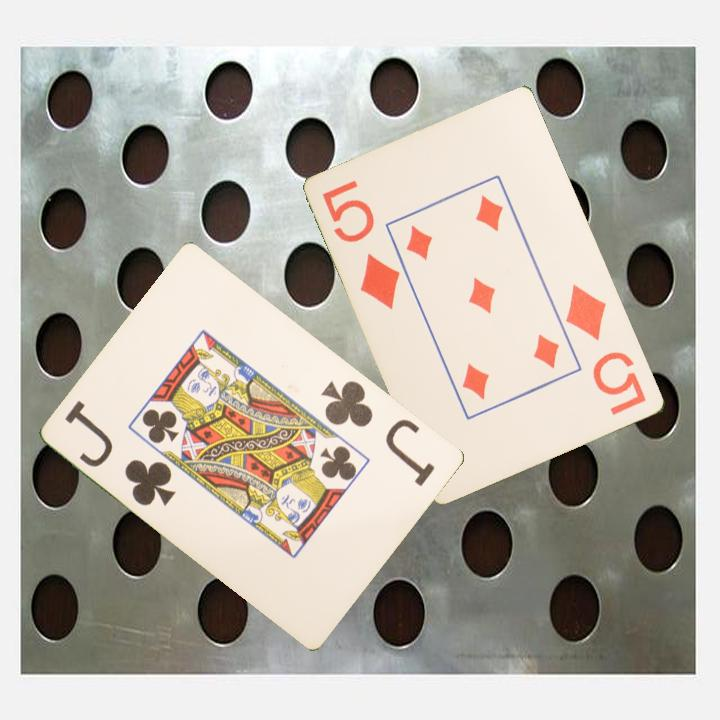5d: (562, 280, 650, 419), (319, 176, 404, 313)
Jc: (318, 376, 439, 489), (61, 396, 180, 509)
